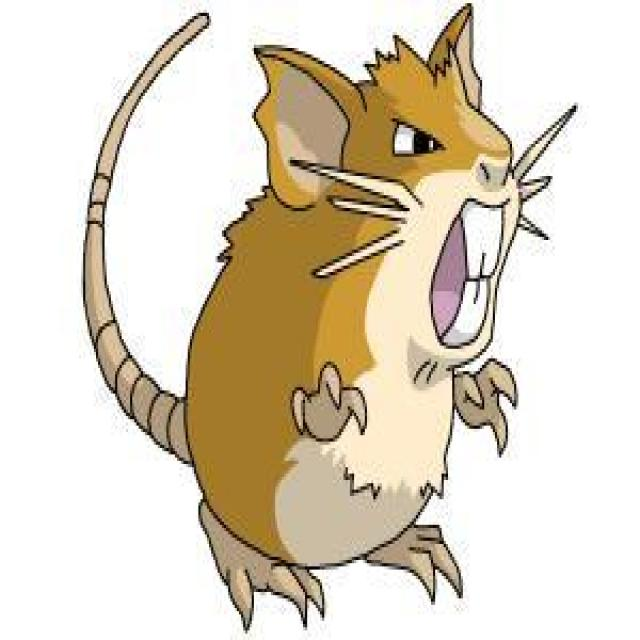Raticate: (163, 8, 532, 614)
